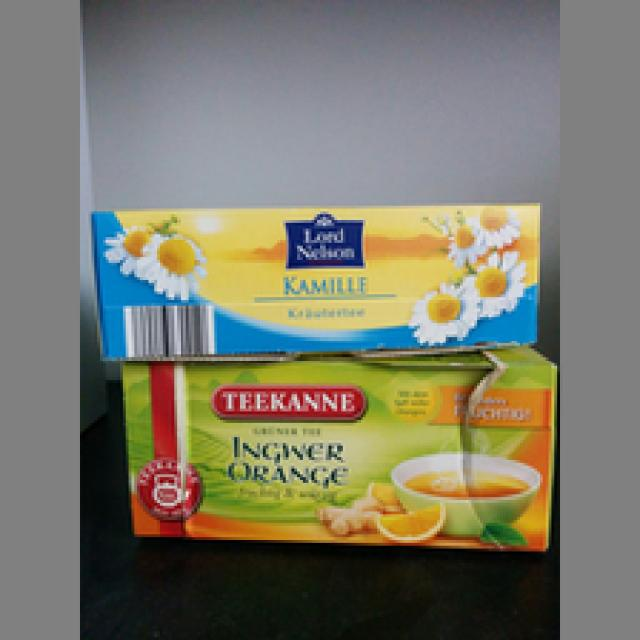groceries: (115, 352, 554, 548), (86, 200, 540, 351)
